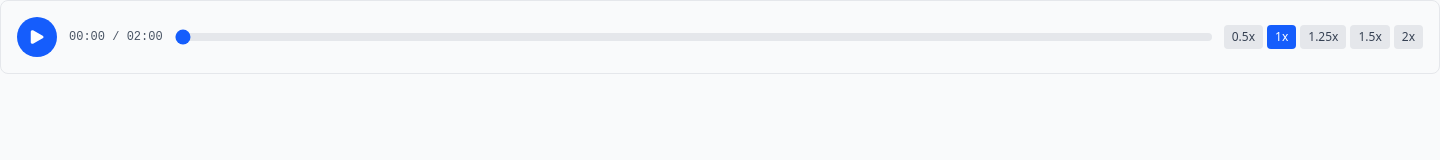
Scenario: MediaPlayer › シーク操作 (Requirement 4.7) › updates time display after seek via slider
The width and height of the screenshot is (1440, 160).
Set the slider named "シーク" to "90" at [948, 37], box [175,33,1212,41]
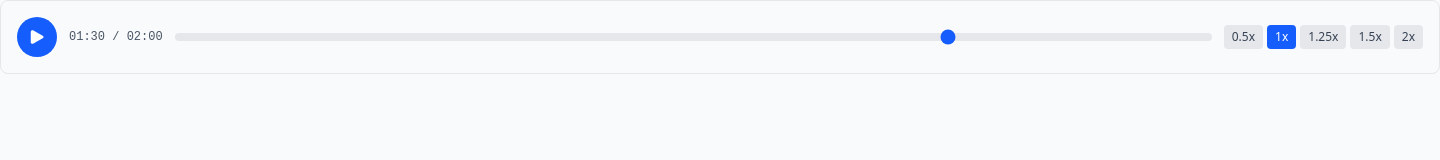
Check: the text named "再生時間" shows "01:30", box [69,30,105,44]
